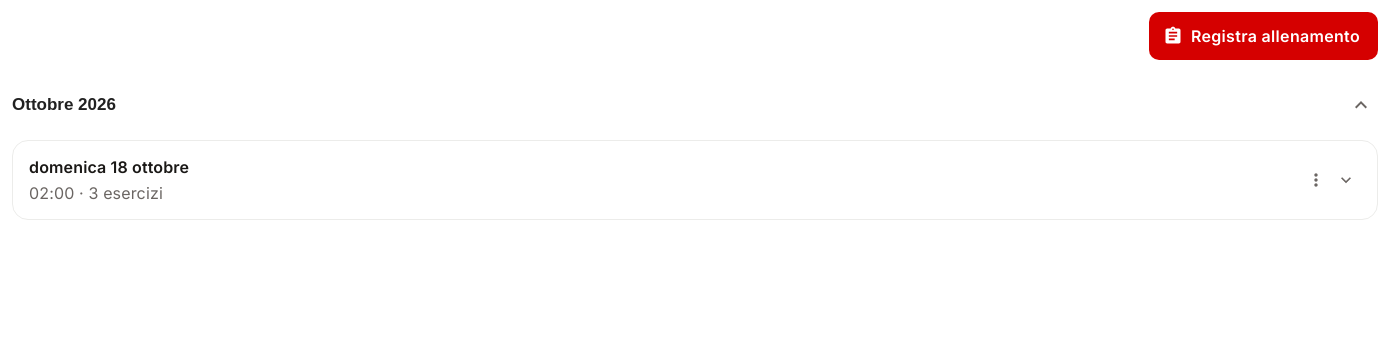
Test: azioni della riga su telefono › le tre icone lasciano il posto a un menu "Altre azioni" con condividi, cambia data ed elimina
The image size is (1390, 338).
Expected: the text "02:00 · 3 esercizi" is shown, [29, 181, 163, 205]
Expected: the button "Condividi allenamento" is not shown
Click the button named "Altre azioni": {"x": 1316, "y": 180} [1301, 165, 1331, 195]
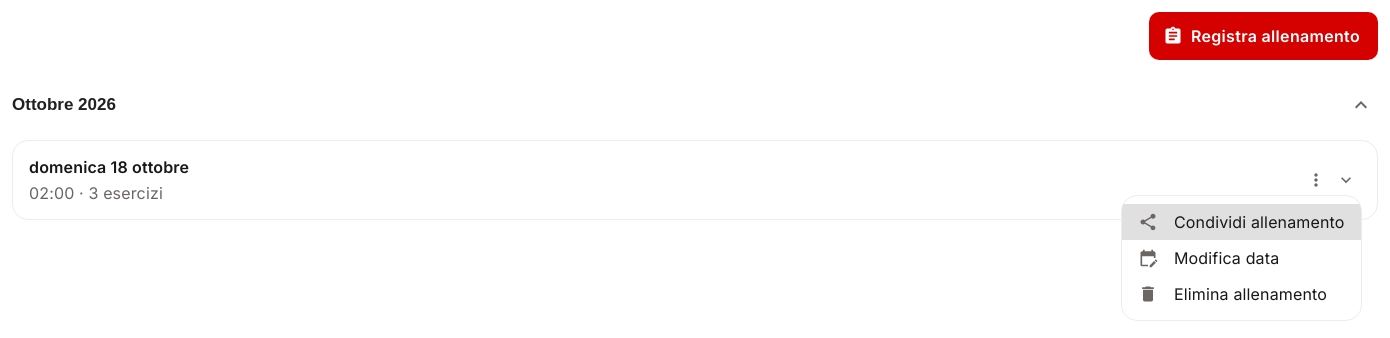
Expected: the menu items read "Condividi allenamento", "Modifica data", "Elimina allenamento", in this order, [1122, 204, 1361, 240]; [1138, 248, 1279, 268]; [1138, 284, 1327, 304]
